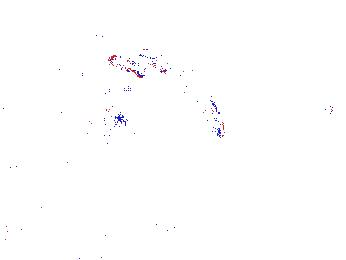X-ray fish: (318, 103, 338, 121)
glassfish: (176, 64, 231, 143)
redtail glassfish: (106, 51, 164, 75), (63, 17, 112, 42)
siberian prawn: (38, 214, 116, 260)
